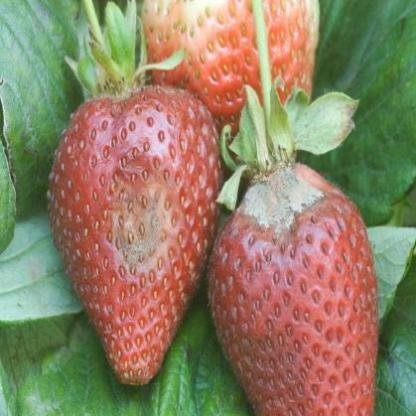Strawberry_Gray_Mold: (88, 153, 187, 279), (224, 160, 349, 259)
